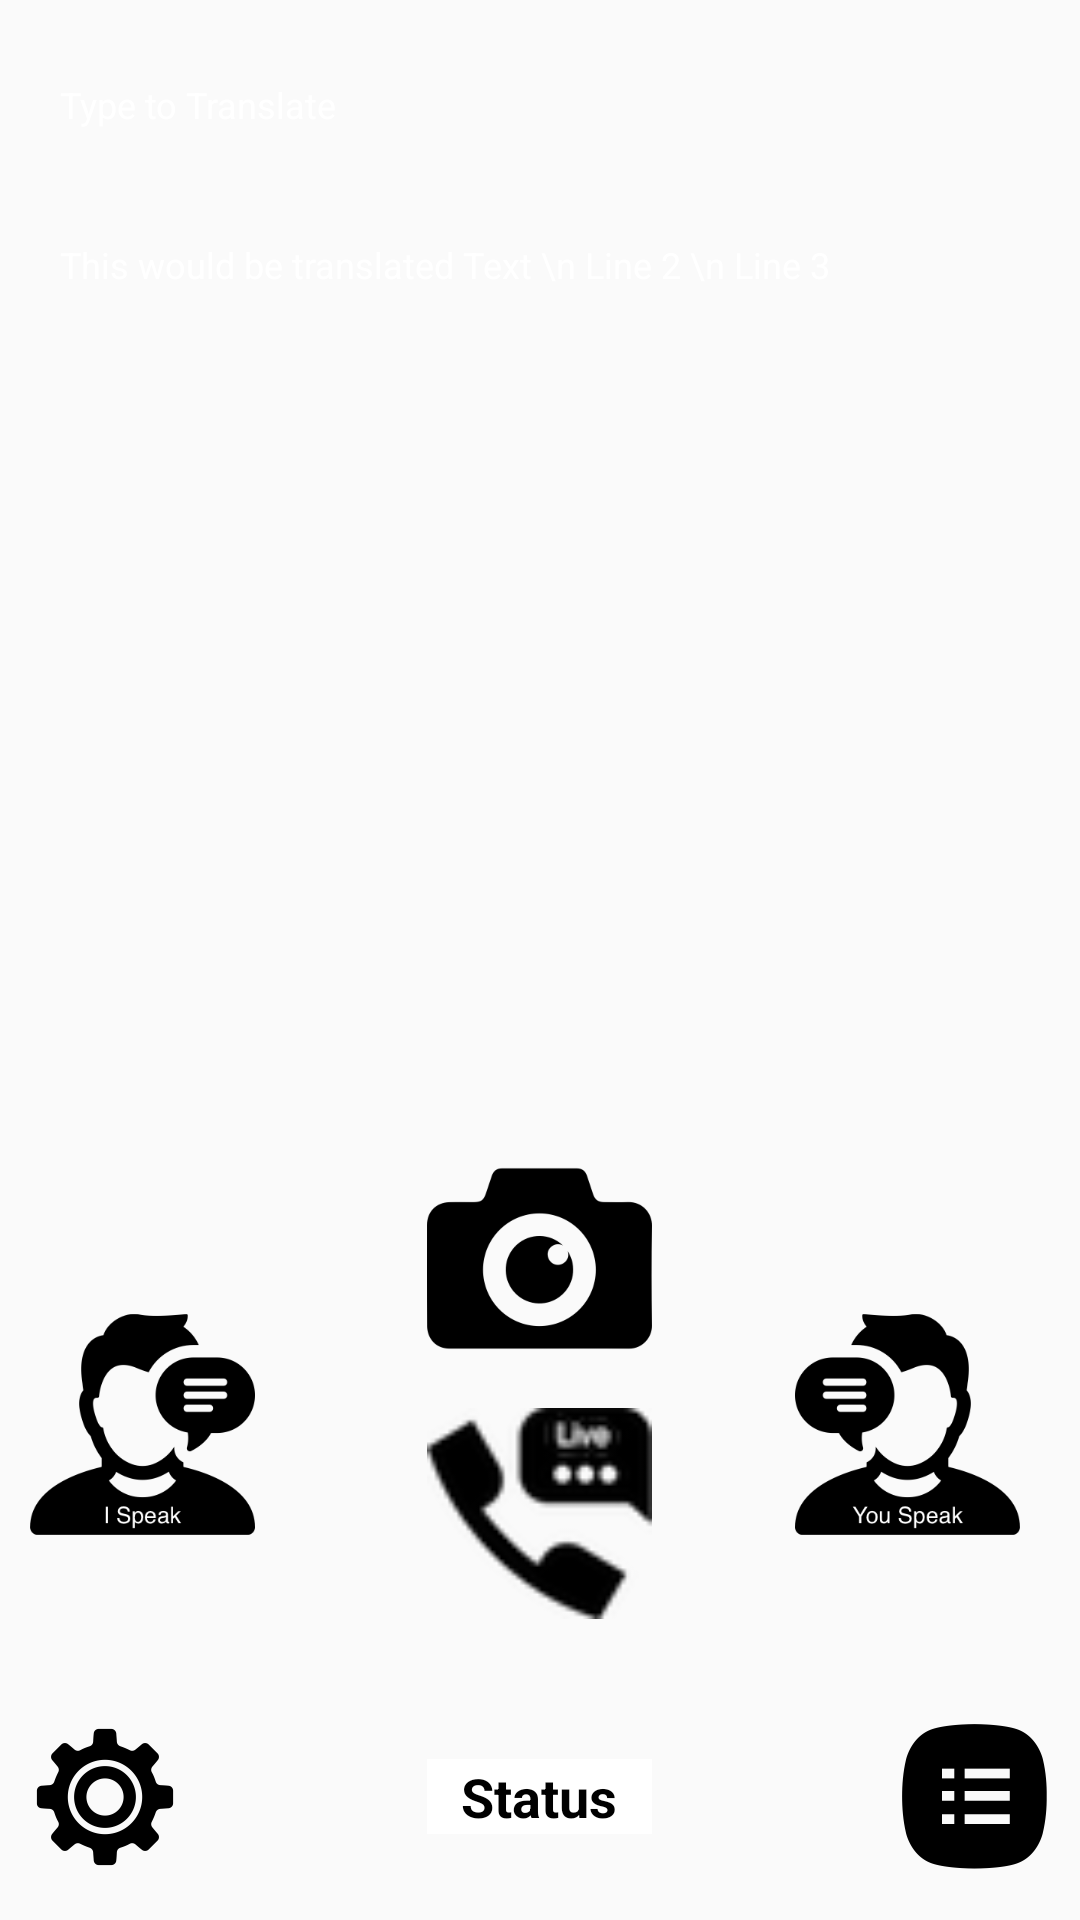

Locate icon controls on the screen. Image size 1080 × 1920, boxes as (x1, y1, x2, y2).
camera: (427, 1168, 652, 1349)
hamburger: (902, 1724, 1047, 1869)
settings: (36, 1728, 174, 1866)
